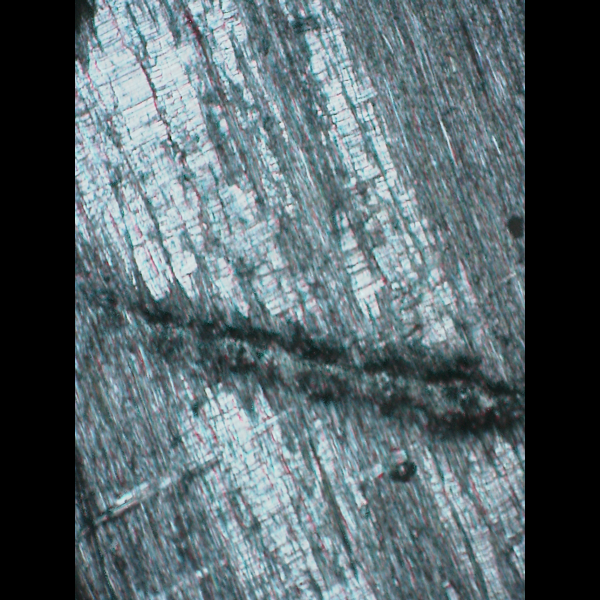d: (96, 270, 525, 439)
